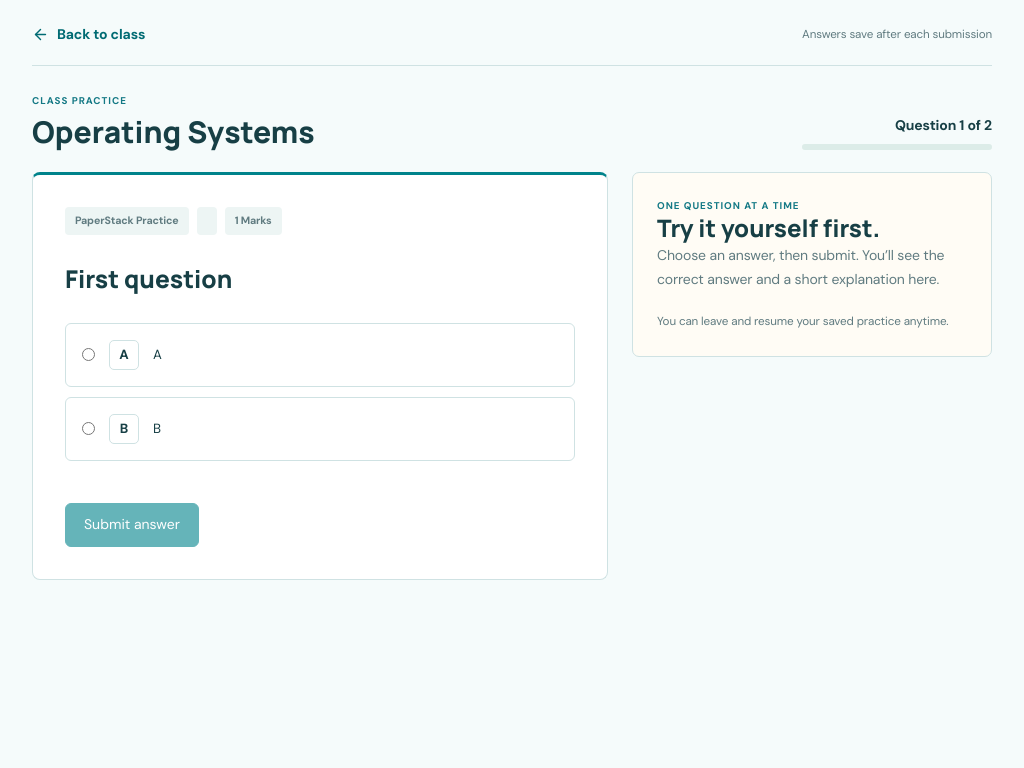
Test: wrong MCQ choice is marked and correct option and explanation are shown
Click the radio button labelled "A" at (88, 355), box [82,348,95,361]
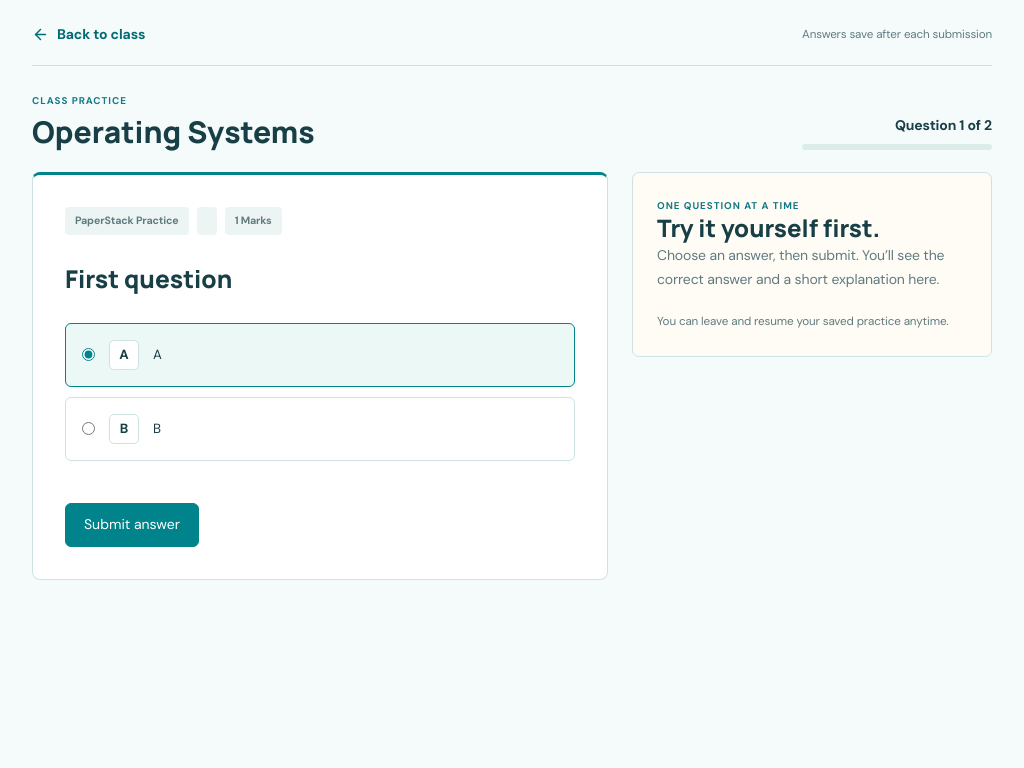
Click the button "Submit answer" at (132, 525), box [65,503,199,547]
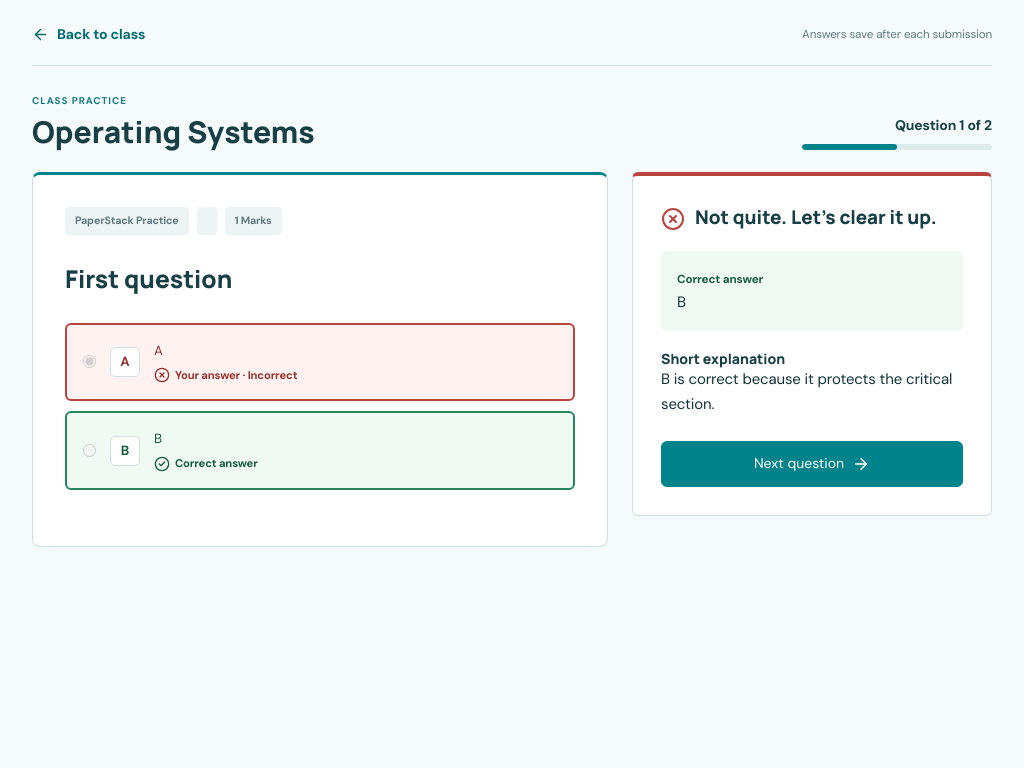
Result: the text "B is correct because it protects the critical section." is shown at [661,368,963,417]
